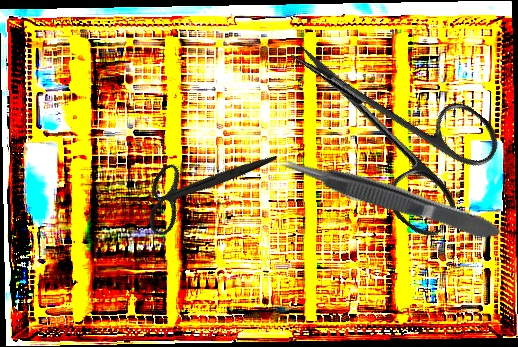Iris Scissors: (252, 0, 512, 244), (129, 106, 278, 266)
Tissue Forceps: (275, 147, 505, 250)
